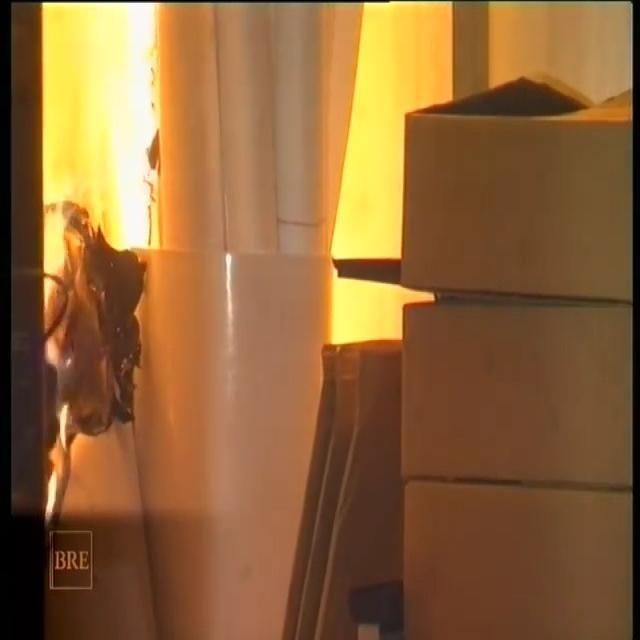Fire: (16, 0, 437, 278)
